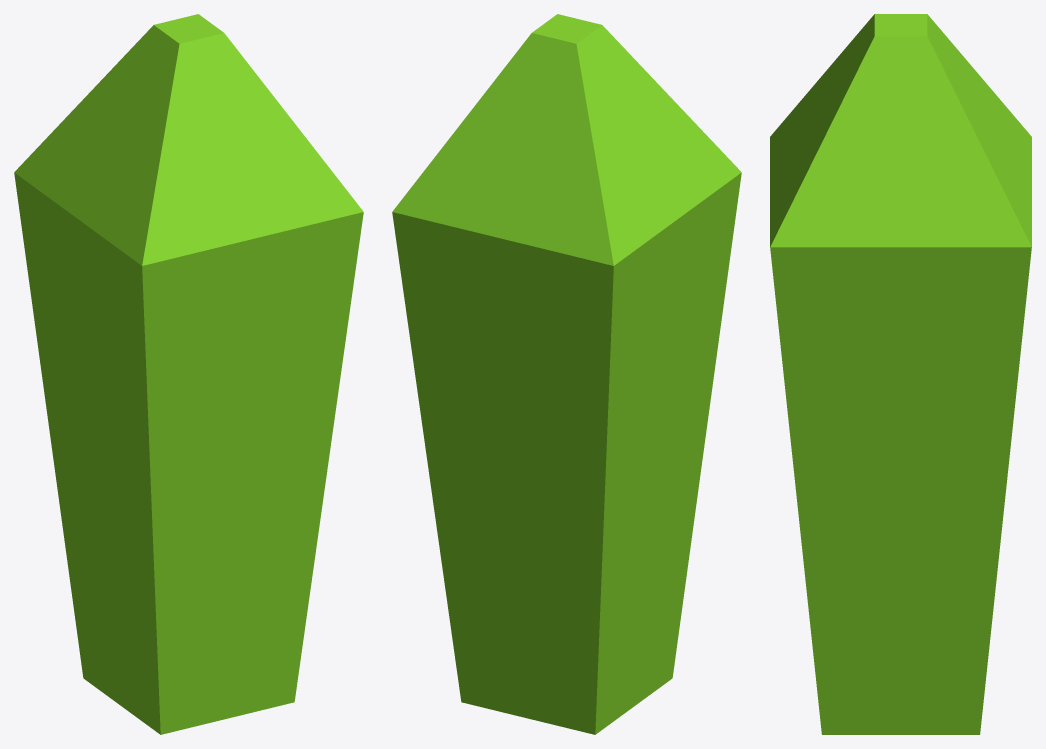
The model's file is Crystal_Green_F.fbx.
The picture shows the model from 3 angles, left to right: view 1: azimuth 30°, elevation 25°; view 2: azimuth 150°, elevation 25°; view 3: azimuth 270°, elevation 25°; orthographic projection. The views are drawn at different scales.
Parts seen in each view (by area): view 1: Crystal_Green_F; view 2: Crystal_Green_F; view 3: Crystal_Green_F.
Part boxes in pixels (x1,y1,x2,y2): Crystal_Green_F: (14, 14, 363, 734); Crystal_Green_F: (392, 14, 741, 734); Crystal_Green_F: (770, 14, 1031, 734).
Size of the model in its own units: 60.54 by 173 by 60.54.
